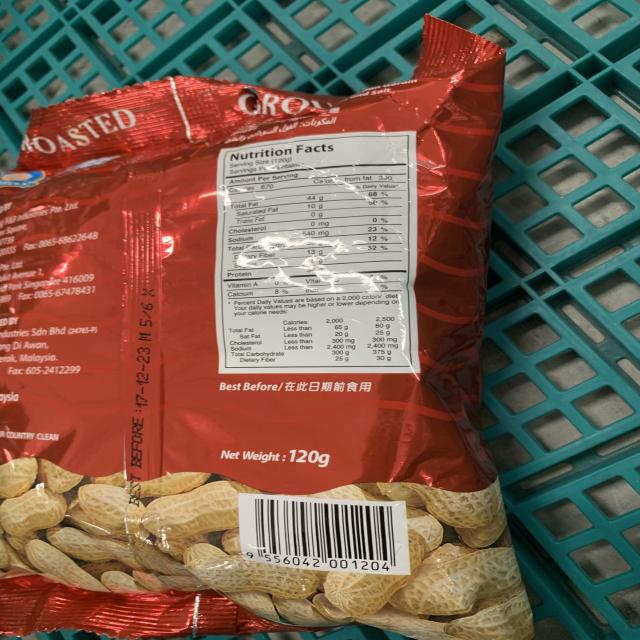object_name: (11, 84, 493, 633)
